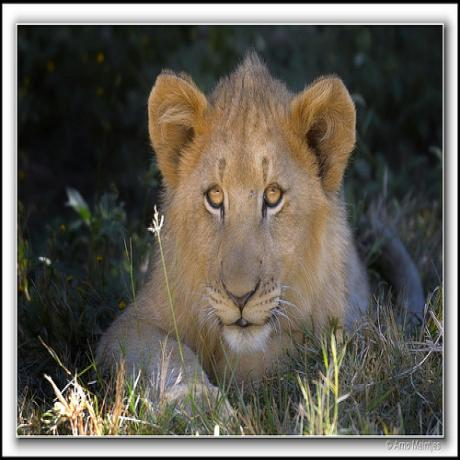Lion: (99, 49, 368, 419)
